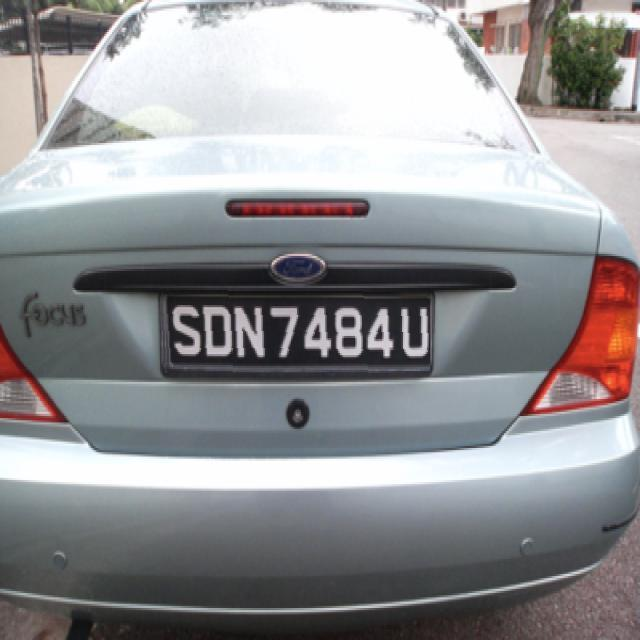licence: (160, 288, 430, 373)
